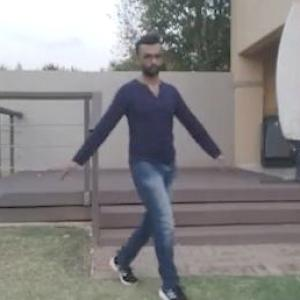land: (64, 40, 215, 287)
